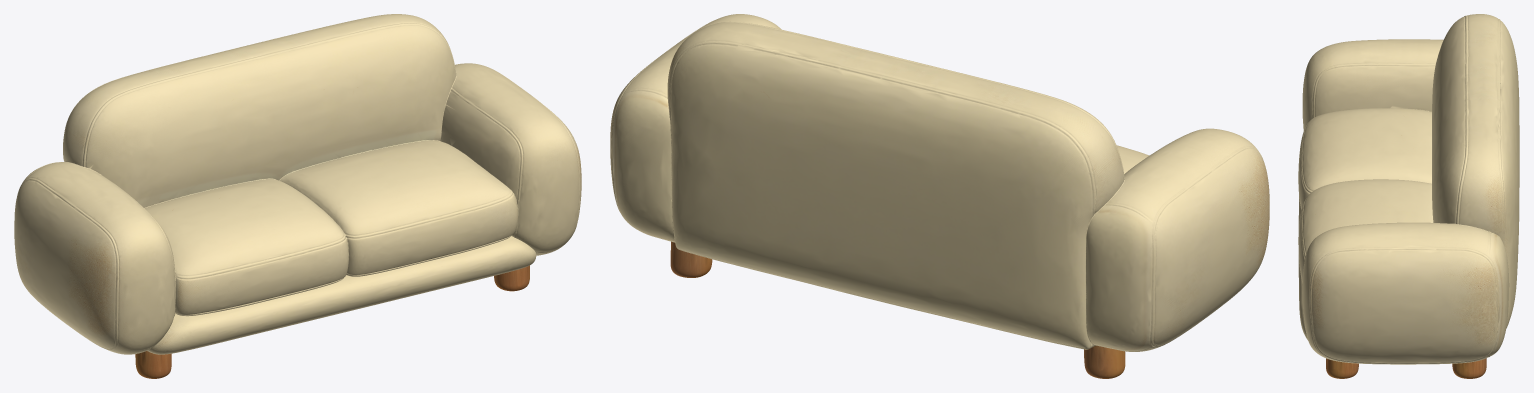
Rendered from sofa.glb.
3 renders of one model, left to right at view 1: azimuth 30°, elevation 25°; view 2: azimuth 150°, elevation 25°; view 3: azimuth 270°, elevation 25°, orthographic. The views are drawn at different scales.
Size of the model in its own units: 2 by 0.8818 by 0.8283.
1 material, 1 textured.
